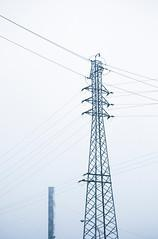power_tower: (72, 50, 127, 239)
